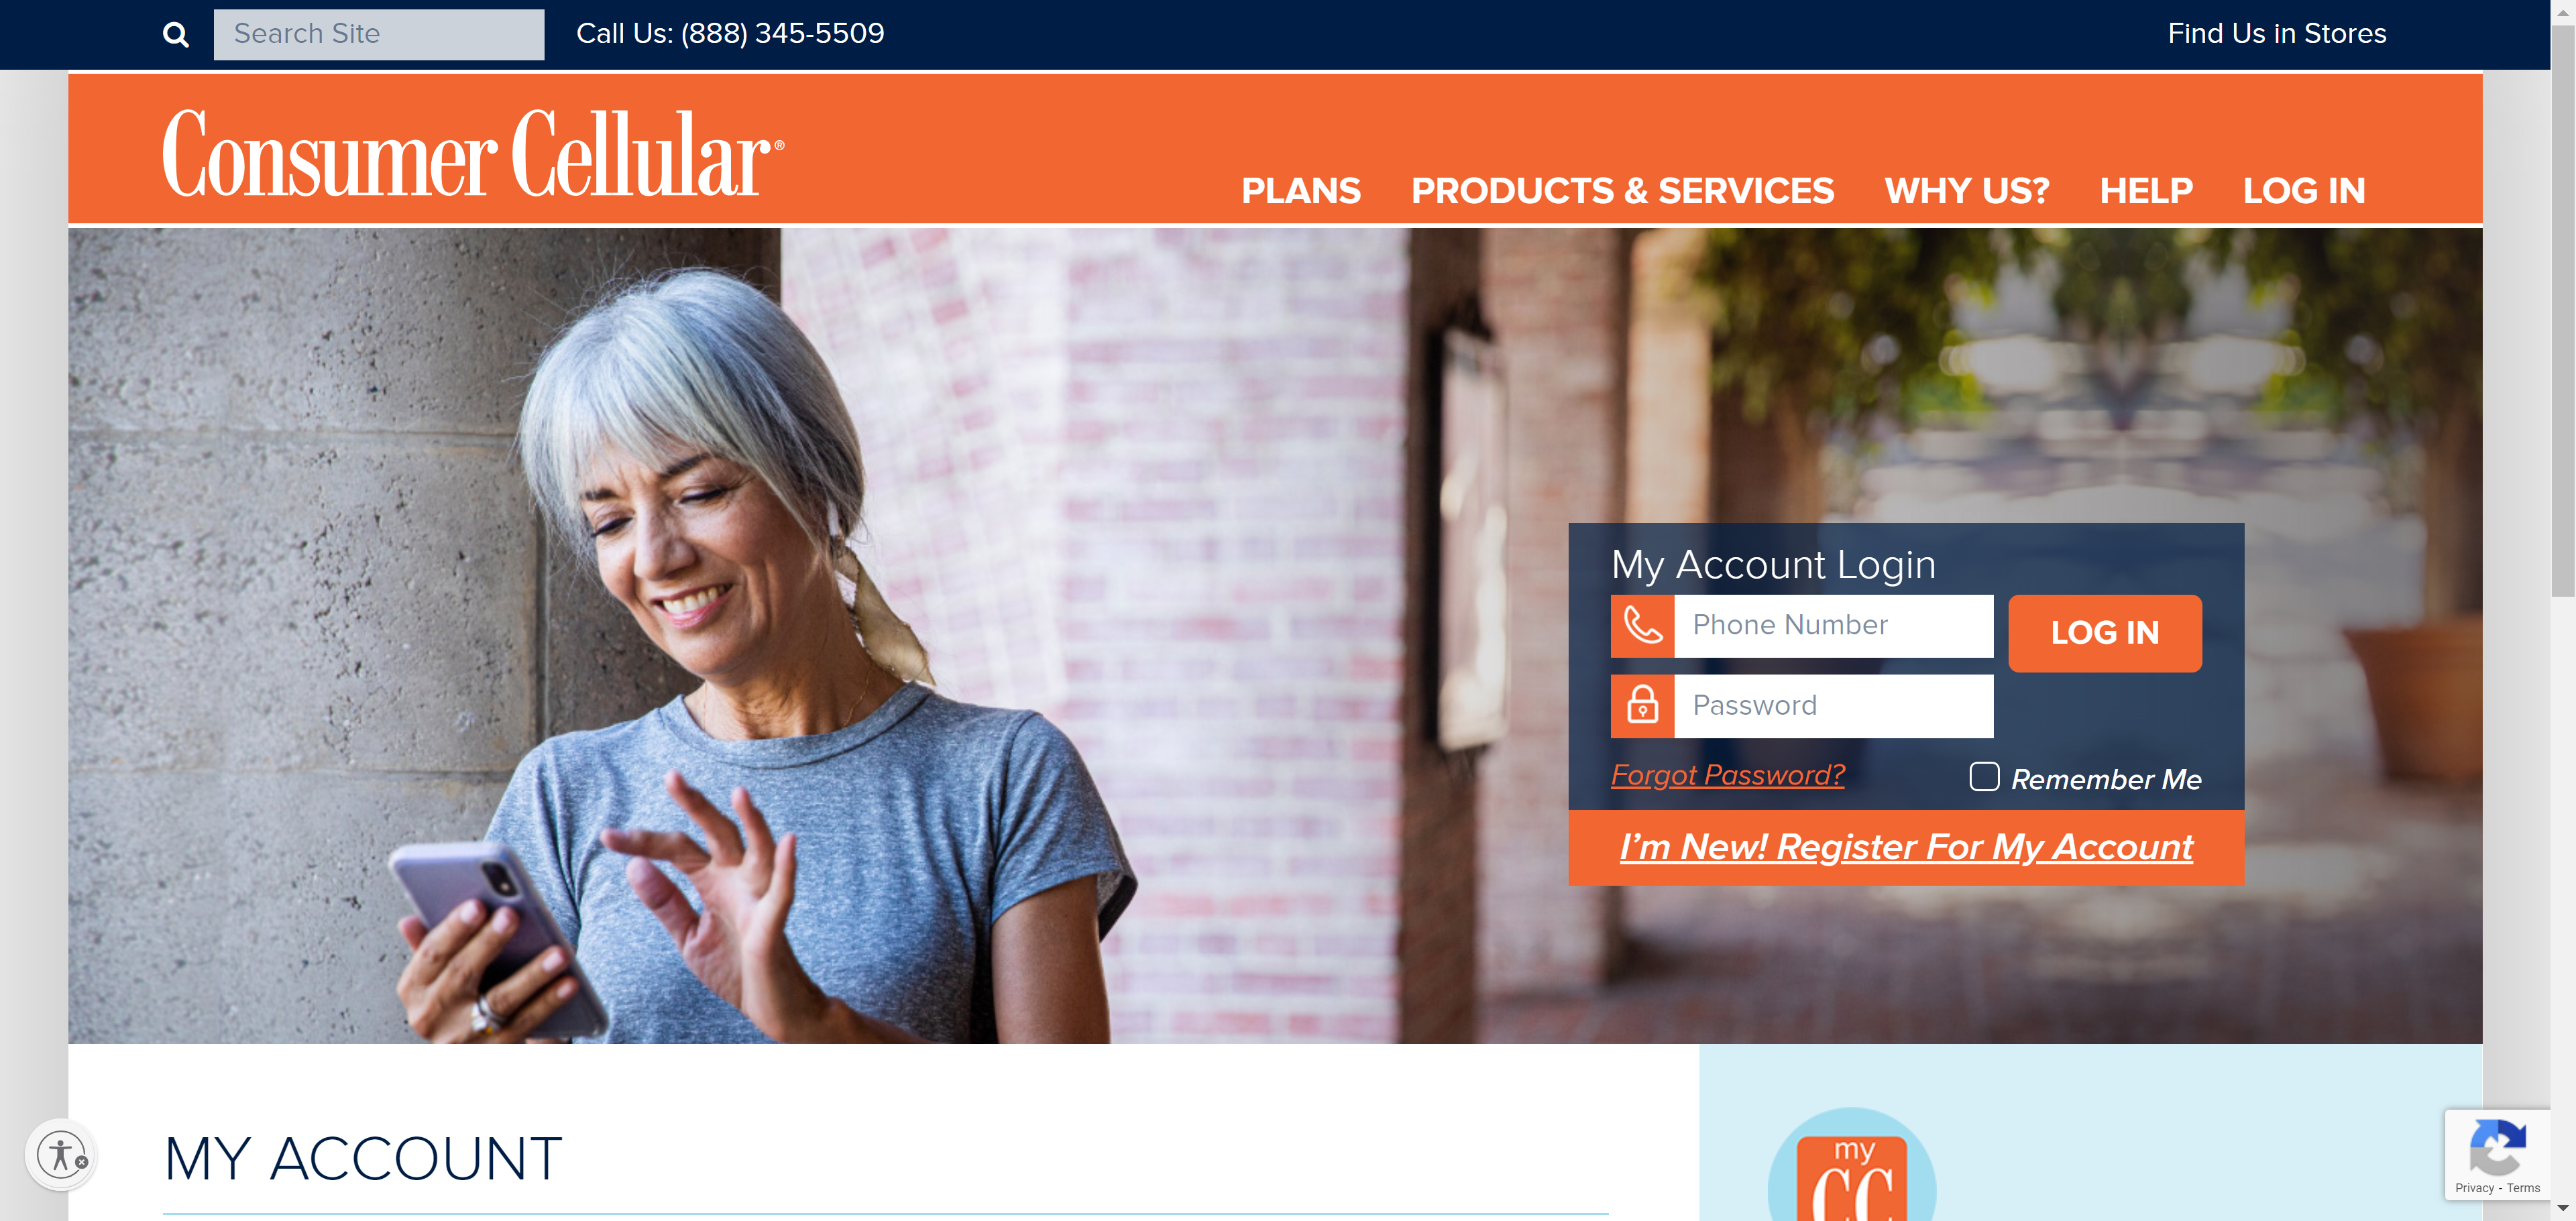login_button: (2008, 595, 2201, 672)
login_form: (1602, 588, 2211, 749)
